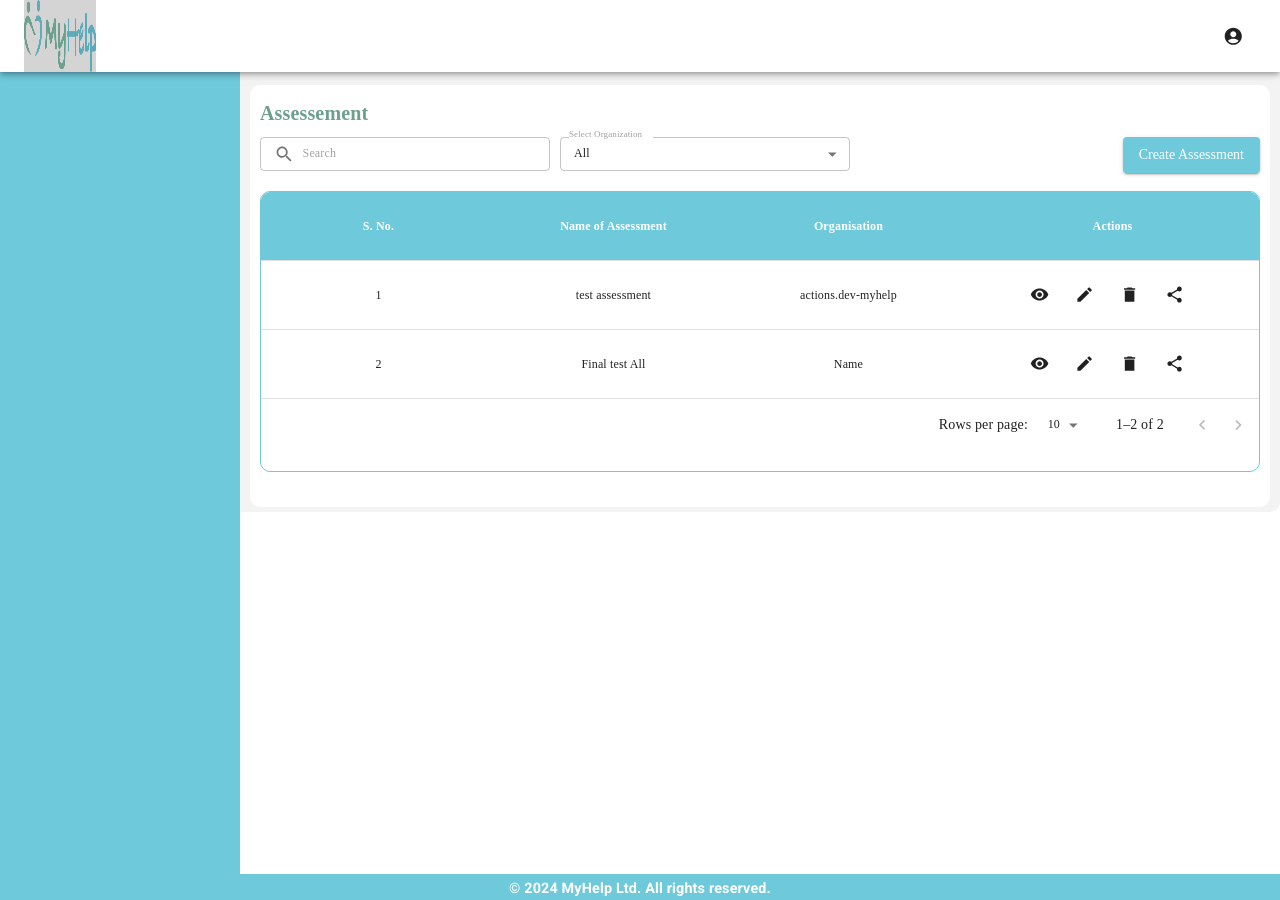
Test: Admin Assessment list › delete assessment from list
Click the button with test id "iconButton_delete_5fb6dc4d-402c-4934-bd27-bdca0dfa0d6d". click: (1130, 295)
box: [1112,277,1148,313]
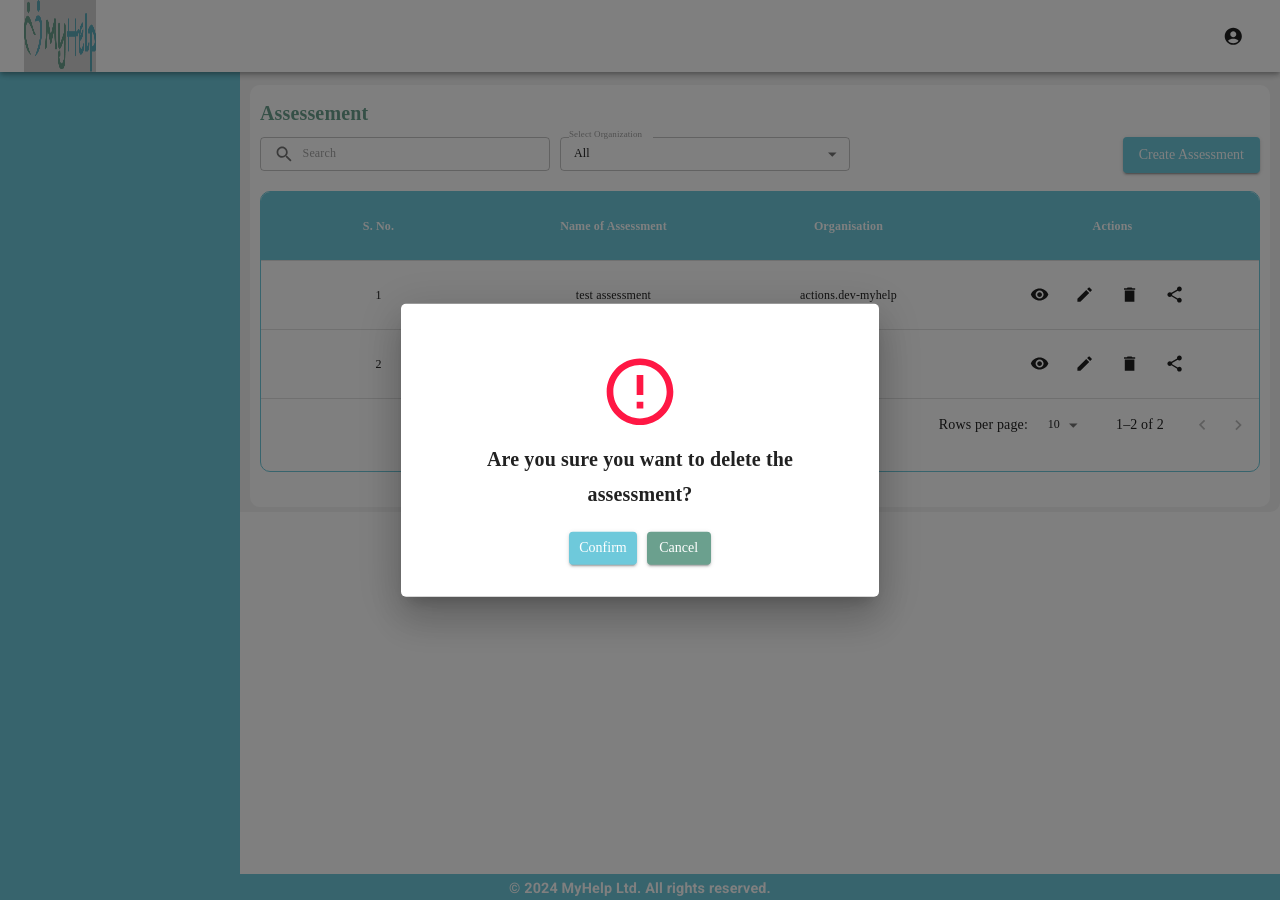
Click the button with test id "confirmButton". click: (603, 548)
box: [569,532,637,564]
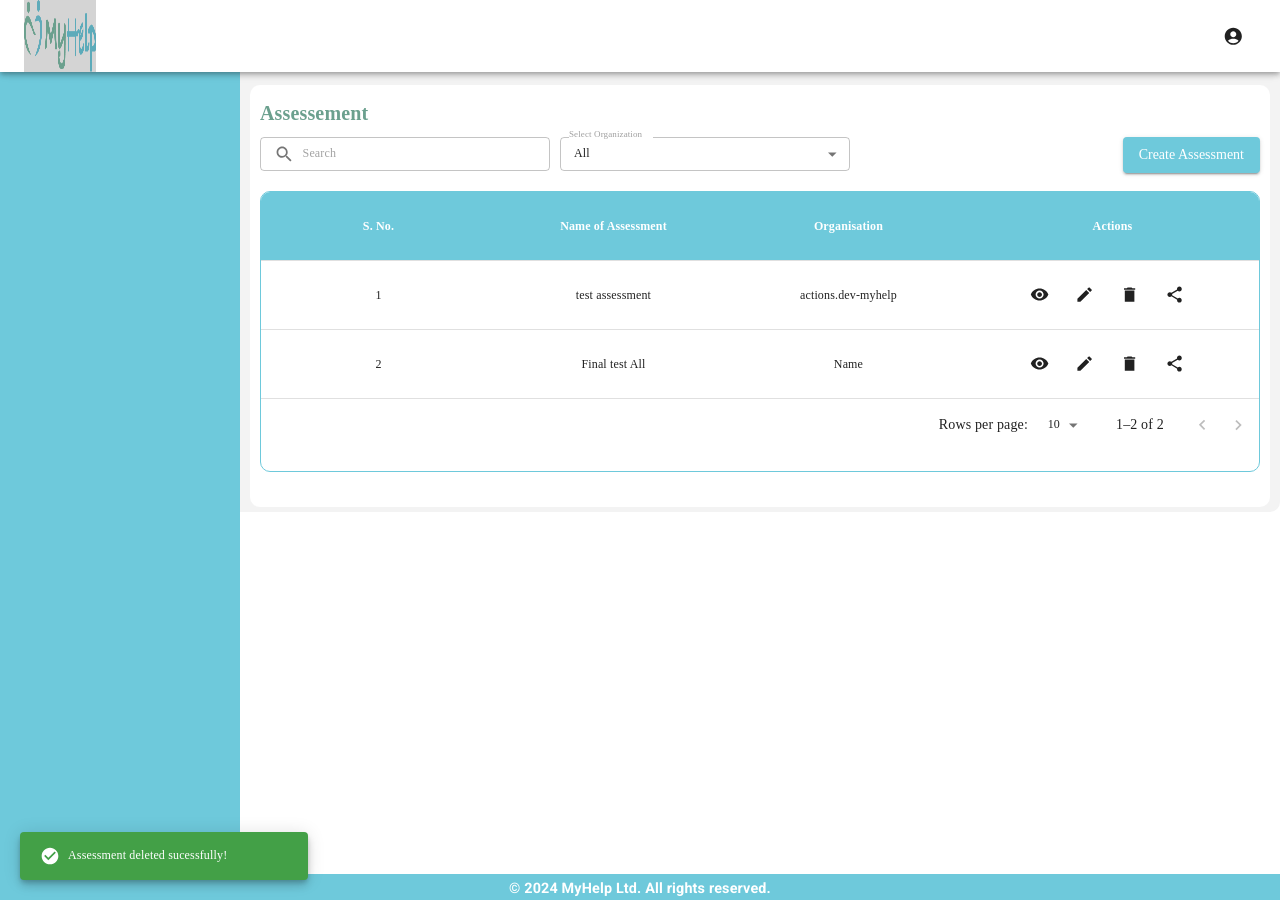
Now the text "Assessment deleted sucessfully!" is shown, box [40,846,227,866]
